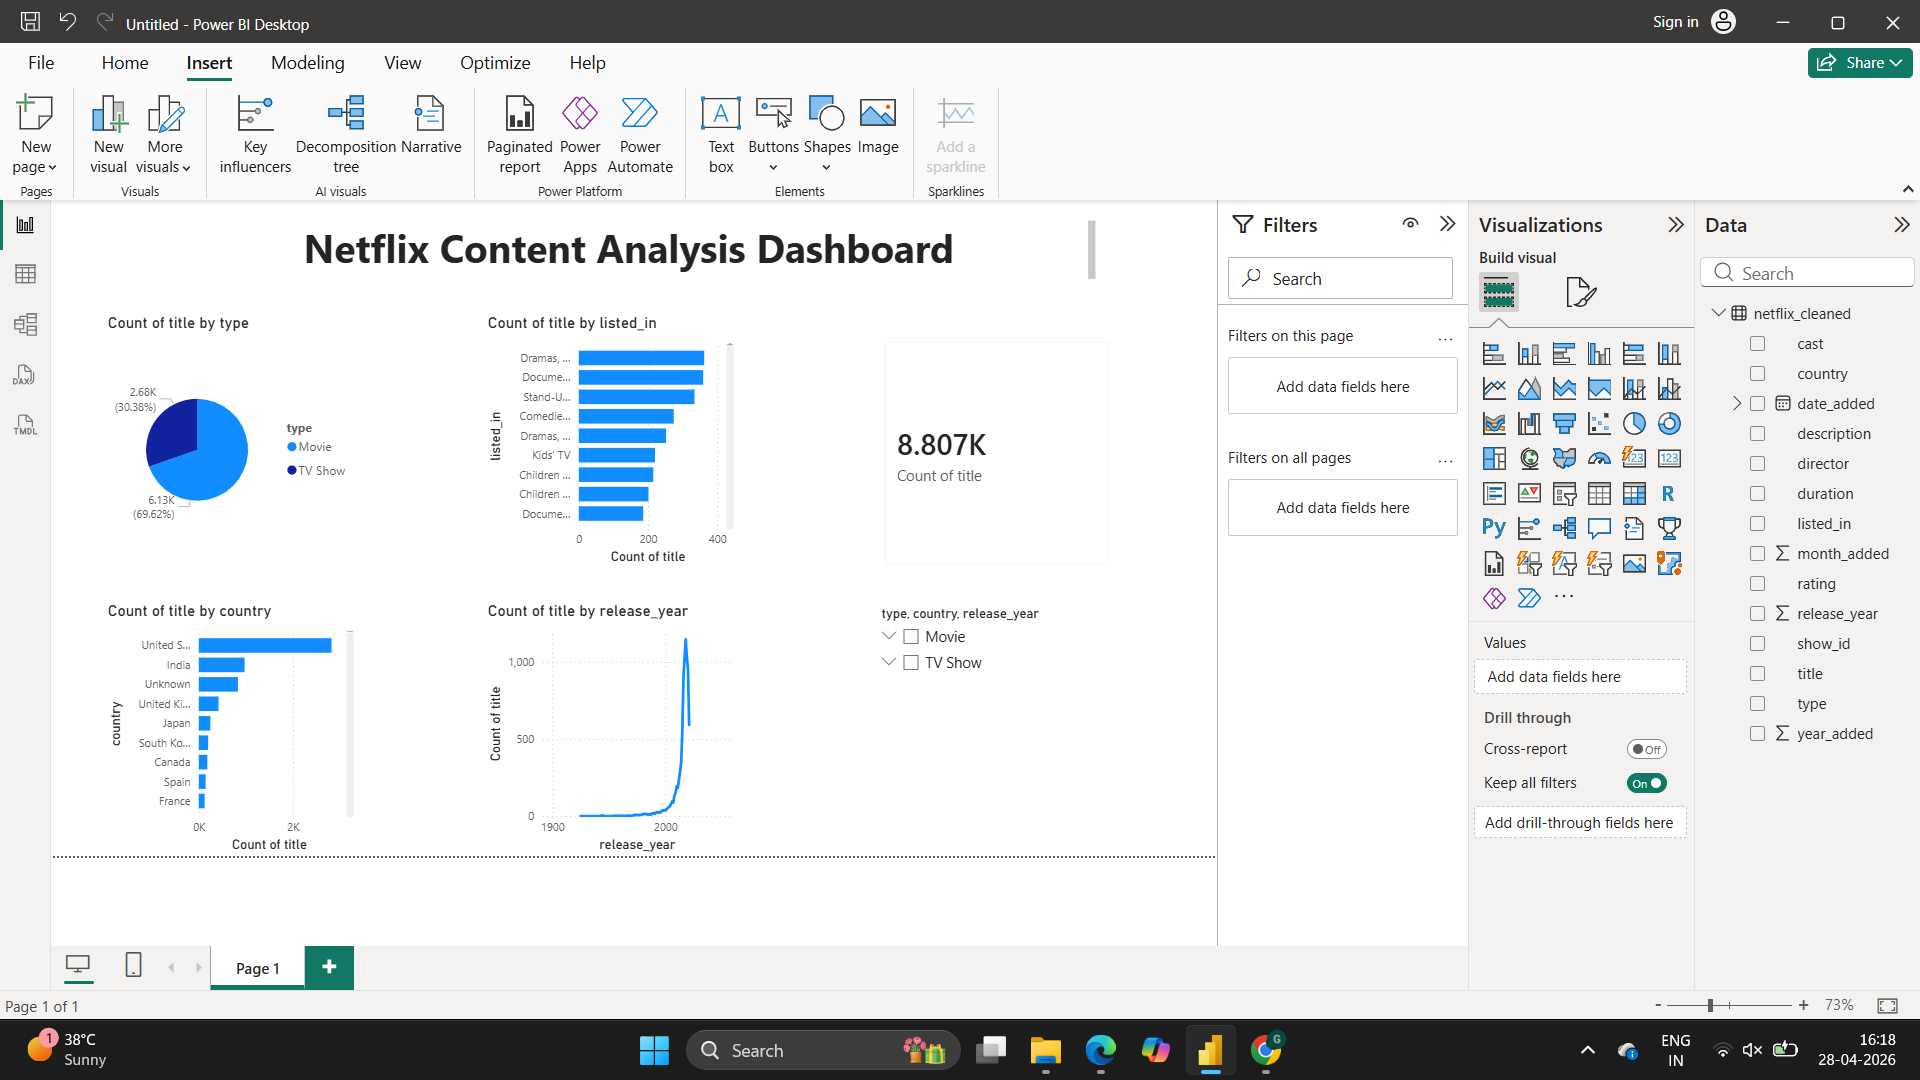

Layout of this report page (visuals, bound fields, positions):
{"tool":"powerbi","page":{"name":"Page 1","canvas":[1280,720],"ordinal":0},"visuals":[{"type":"pieChart","fields":{"Category":["netflix_cleaned.type"],"Y":["CountNonNull(netflix_cleaned.title)"]},"box":[57.6,124.9,279.9,279.9],"z":0},{"type":"clusteredBarChart","fields":{"Category":["netflix_cleaned.country"],"Y":["CountNonNull(netflix_cleaned.title)"]},"box":[57.6,440.5,279.9,279.9],"z":1000},{"type":"clusteredBarChart","fields":{"Category":["netflix_cleaned.listed_in"],"Y":["CountNonNull(netflix_cleaned.title)"]},"box":[474.8,124.9,279.9,279.9],"z":2000},{"type":"lineChart","fields":{"Category":["netflix_cleaned.release_year"],"Y":["CountNonNull(netflix_cleaned.title)"]},"box":[474.8,440.5,279.9,279.9],"z":3000},{"type":"cardVisual","fields":{"Data":["CountNonNull(netflix_cleaned.title)"]},"box":[898.8,138.6,279.9,279.9],"z":3001},{"type":"slicer","fields":{"Values":["netflix_cleaned.type","netflix_cleaned.country","netflix_cleaned.release_year"]},"box":[898.8,440.5,279.9,279.9],"z":3002},{"type":"textbox","box":[269,17.8,882.3,86.4],"z":3003}]}

Visuals, with their boxes on the page's 1280x720 design canvas (x1, y1, x2, y2). These are canvas units, not pixel positions in the 1920x1080 screenshot, which may show the page scaled, cropped or inside an application window:
pieChart - netflix_cleaned.type x CountNonNull(netflix_cleaned.title): {"x1": 58, "y1": 125, "x2": 338, "y2": 405}
clusteredBarChart - netflix_cleaned.country x CountNonNull(netflix_cleaned.title): {"x1": 58, "y1": 440, "x2": 338, "y2": 720}
clusteredBarChart - netflix_cleaned.listed_in x CountNonNull(netflix_cleaned.title): {"x1": 475, "y1": 125, "x2": 755, "y2": 405}
lineChart - netflix_cleaned.release_year x CountNonNull(netflix_cleaned.title): {"x1": 475, "y1": 440, "x2": 755, "y2": 720}
cardVisual - CountNonNull(netflix_cleaned.title): {"x1": 899, "y1": 139, "x2": 1179, "y2": 418}
slicer - netflix_cleaned.type x netflix_cleaned.country: {"x1": 899, "y1": 440, "x2": 1179, "y2": 720}
textbox: {"x1": 269, "y1": 18, "x2": 1151, "y2": 104}
